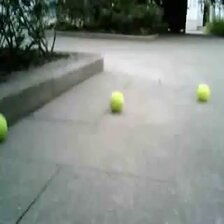tennis: (108, 90, 125, 110), (1, 112, 10, 141), (197, 84, 209, 100)
